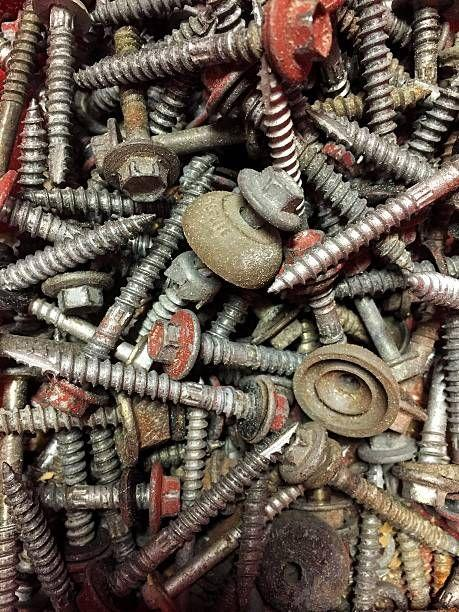metal: (82, 418, 303, 612), (137, 161, 304, 343), (78, 160, 226, 362), (2, 342, 292, 444), (264, 158, 459, 298), (278, 420, 459, 565), (79, 0, 334, 90), (306, 102, 459, 193), (0, 208, 158, 295), (141, 308, 308, 382), (0, 465, 78, 612), (24, 466, 188, 527), (350, 0, 400, 155), (36, 0, 73, 185), (397, 72, 458, 166)
